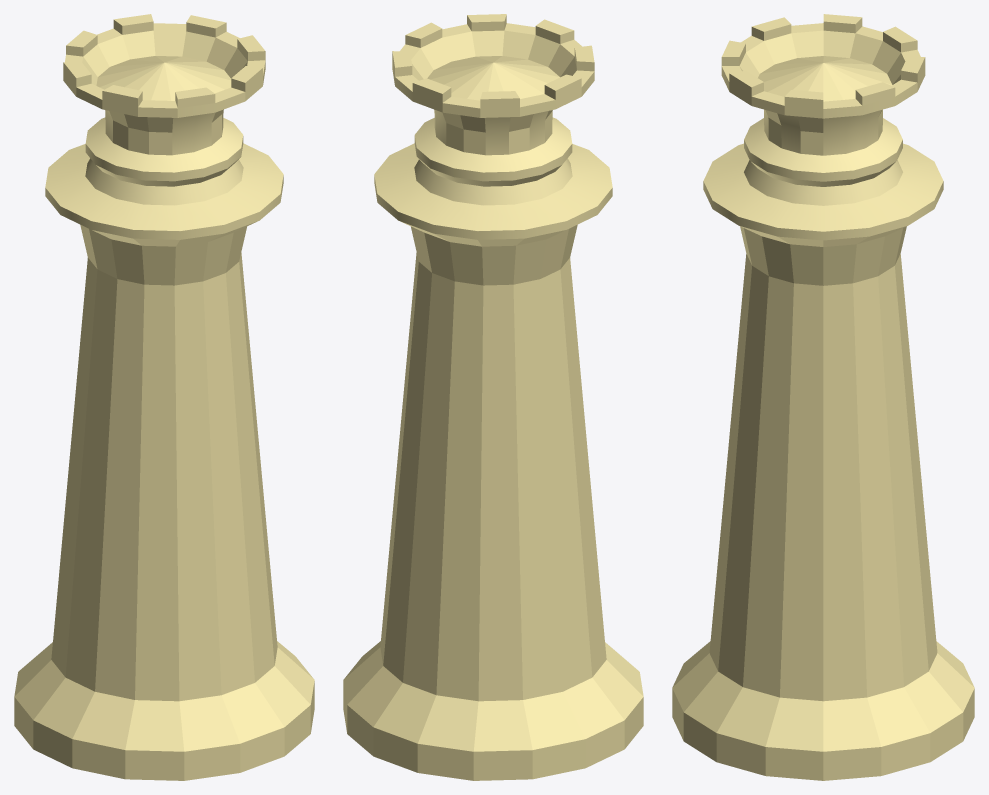
The model's file is Low Poly Chess - Queen.glb.
3 renders of one model, left to right at view 1: azimuth 30°, elevation 25°; view 2: azimuth 150°, elevation 25°; view 3: azimuth 270°, elevation 25°, orthographic.
Visible parts, largest first — view 1: Cylinder; view 2: Cylinder; view 3: Cylinder.
Boxes of the visible parts, bbox=[...] form: Cylinder: bbox=[14, 14, 314, 780]; Cylinder: bbox=[343, 14, 643, 780]; Cylinder: bbox=[672, 14, 974, 780].
Bounding box in the file's own units: 1.45 × 3.48 × 1.45.
2 materials, 2 textured.
